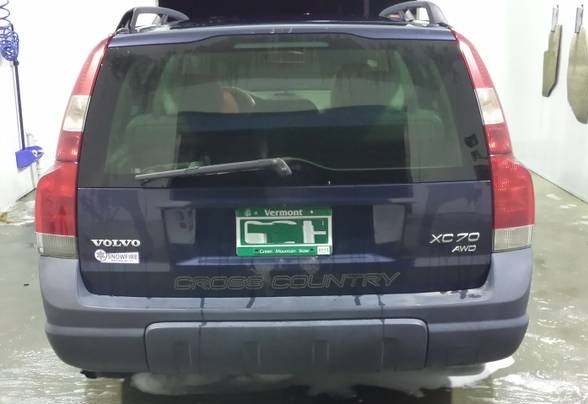volvo: (12, 1, 555, 404)
